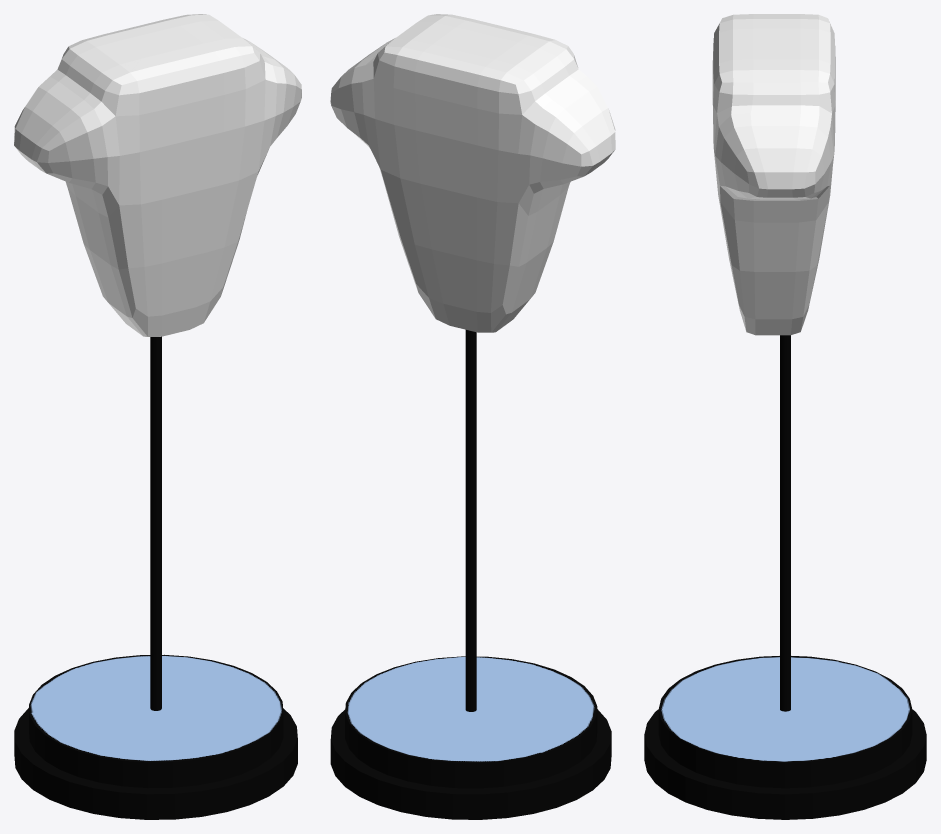
Rendered from Mannequin.fbx.
3 renders of one model, left to right at view 1: azimuth 30°, elevation 25°; view 2: azimuth 150°, elevation 25°; view 3: azimuth 270°, elevation 25°, orthographic.
Visible parts, largest first — view 1: Cylinder; view 2: Cylinder; view 3: Cylinder.
Part boxes in pixels (x1=…): Cylinder: x1=14, y1=14, x2=301, y2=819; Cylinder: x1=330, y1=14, x2=615, y2=819; Cylinder: x1=644, y1=14, x2=926, y2=819.
Size of the model in its own units: 109 by 280 by 100.
